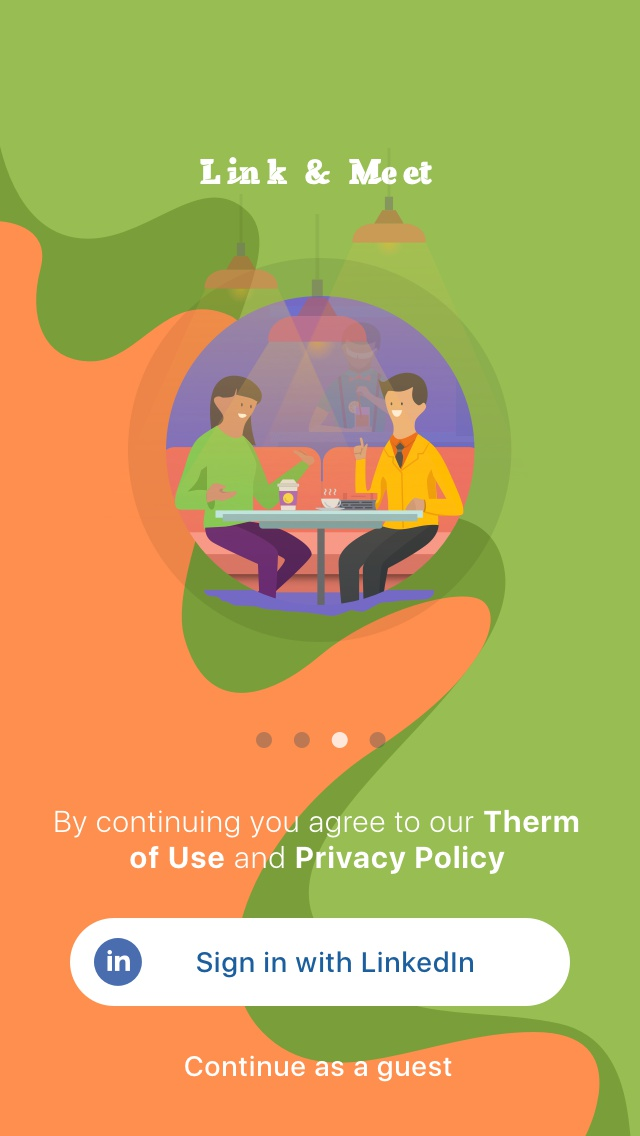BackgroundImage: (2, 3, 640, 1136)
Image: (126, 186, 513, 643)
PageIndicator: (255, 731, 387, 750)
Text: (55, 809, 579, 875), (185, 1055, 453, 1082), (200, 156, 433, 185)
TextButton: (70, 918, 571, 1007)
